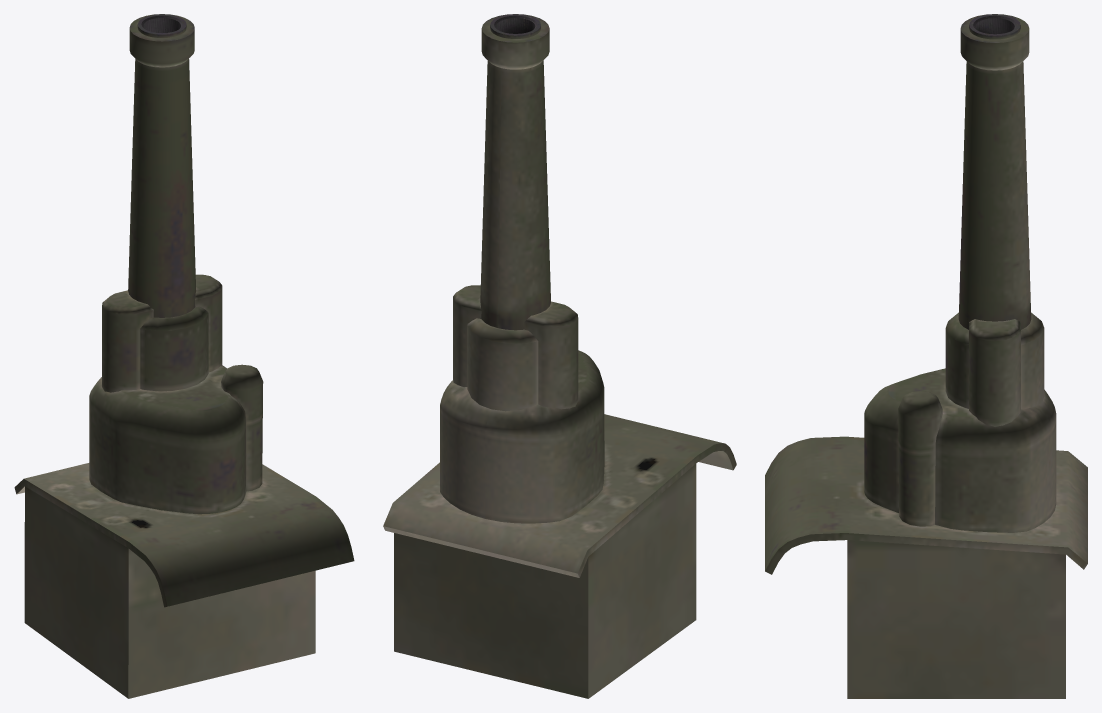
The model's file is Gun_07.glb.
The picture shows the model from 3 angles, left to right: view 1: azimuth 30°, elevation 25°; view 2: azimuth 150°, elevation 25°; view 3: azimuth 270°, elevation 25°; orthographic projection. The views are drawn at different scales.
Parts seen in each view (by area): view 1: set_0_group_0; view 2: set_0_group_0; view 3: set_0_group_0.
Boxes of the visible parts, x1=… form: set_0_group_0: x1=14, y1=14, x2=354, y2=698; set_0_group_0: x1=383, y1=14, x2=736, y2=698; set_0_group_0: x1=765, y1=14, x2=1087, y2=698.
Size of the model in its own units: 0.4344 by 1.33 by 0.6156.
1 material, 1 textured.
